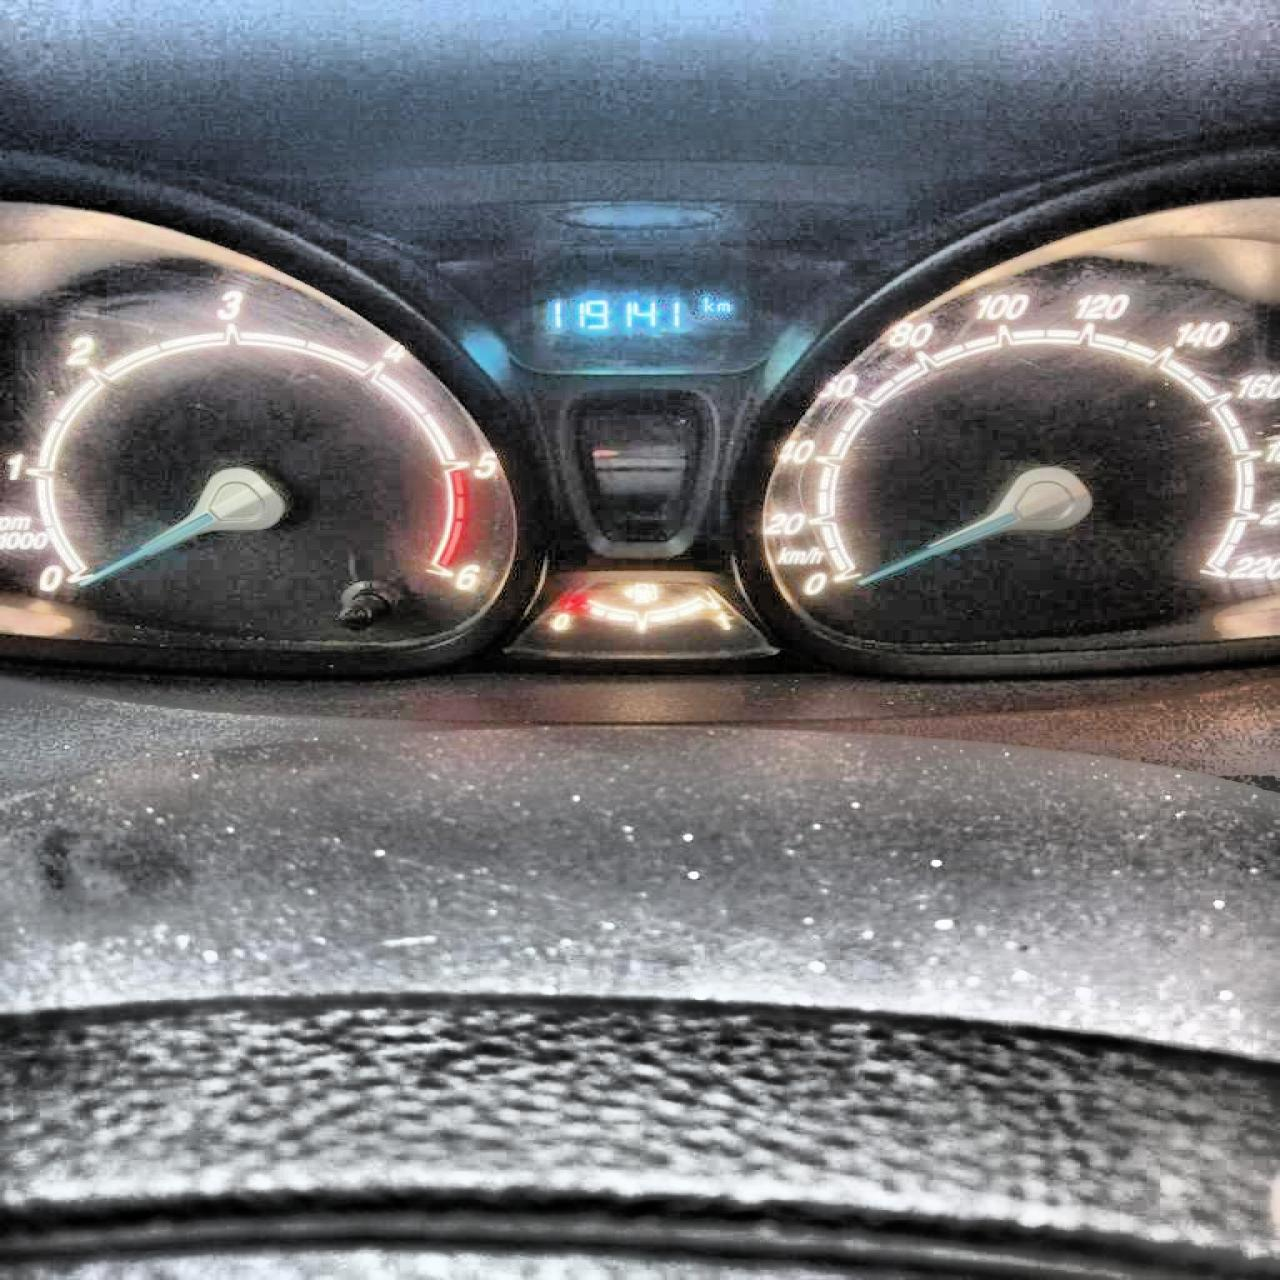1: (550, 298, 564, 331), (668, 298, 682, 328), (577, 299, 585, 329), (624, 299, 632, 329)
4: (633, 298, 659, 328)
9: (587, 299, 611, 329)
X: (702, 295, 713, 313), (713, 300, 730, 311)
odometer: (532, 271, 770, 361)
